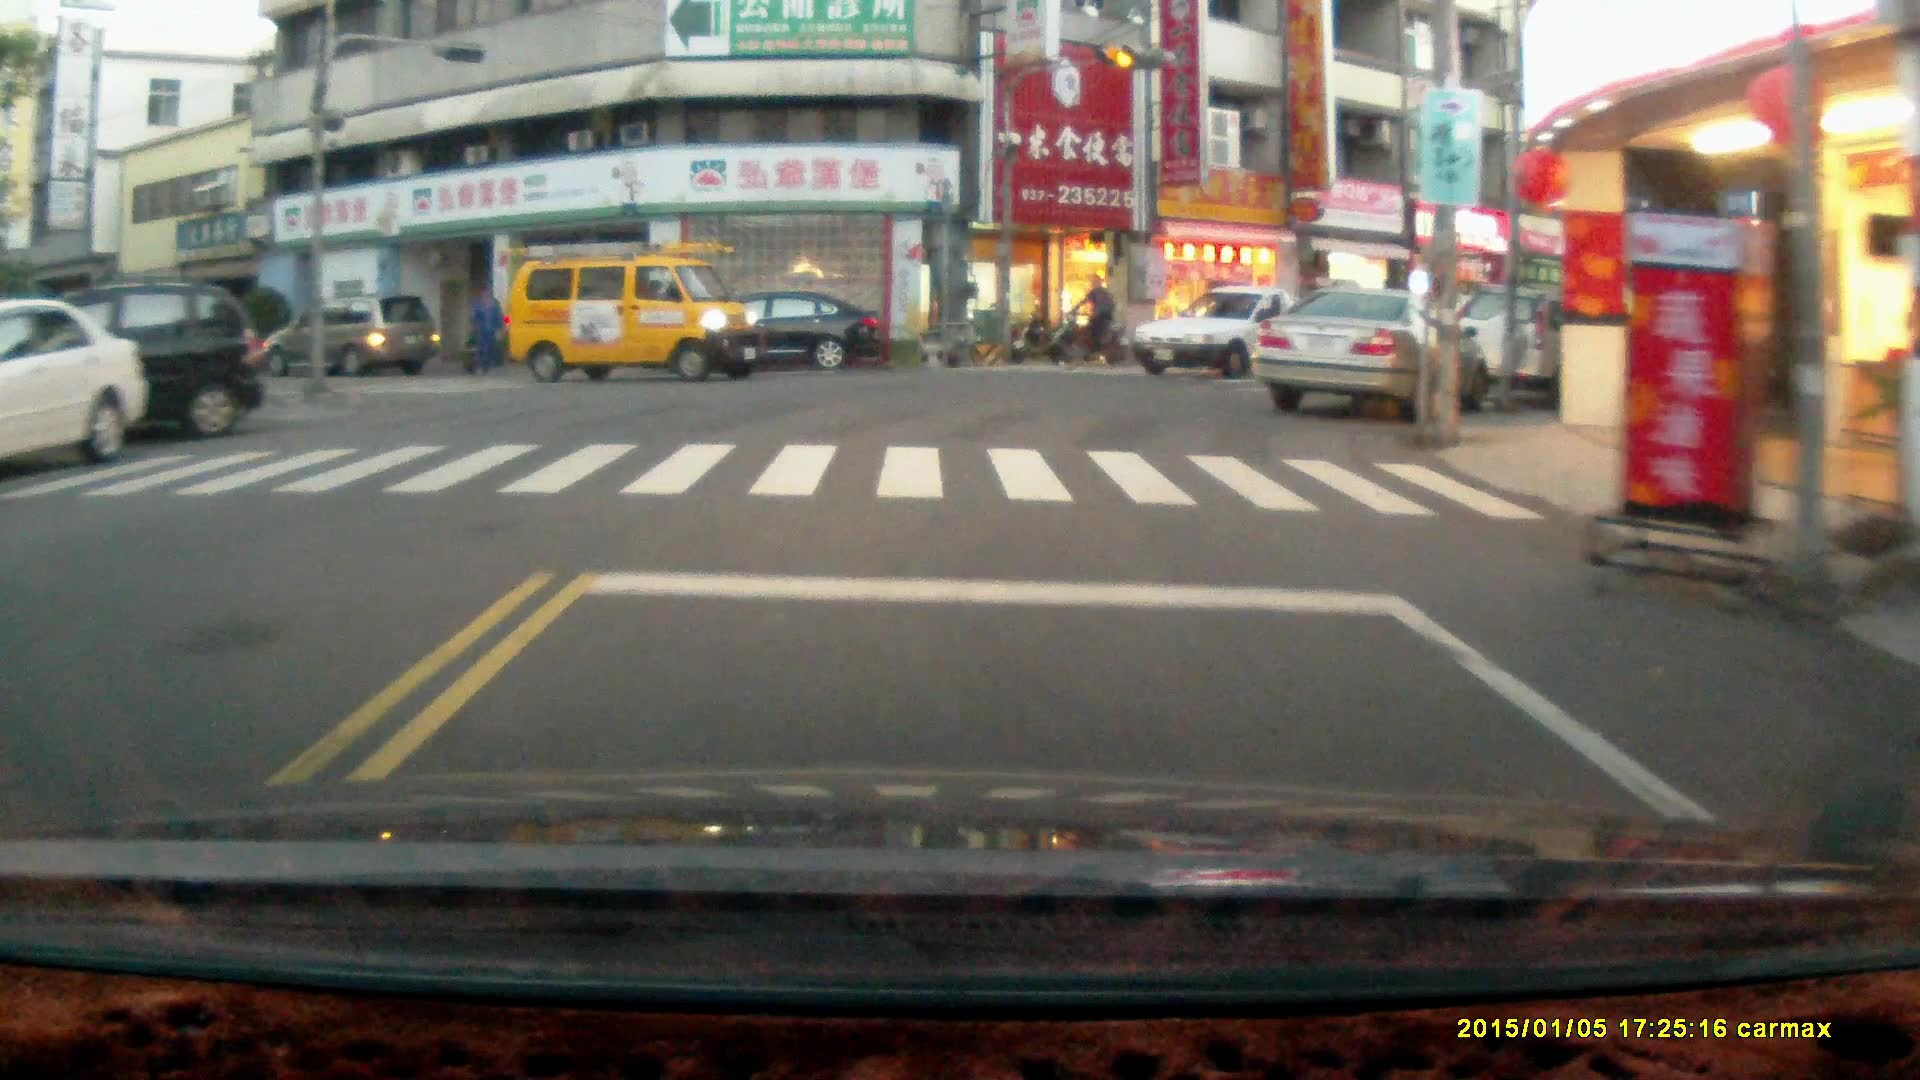pedestrian: (466, 285, 501, 372)
rider: (1050, 269, 1128, 370)
vehicle: (5, 276, 275, 450), (506, 240, 759, 385), (1250, 285, 1500, 420), (1447, 283, 1681, 409), (1, 297, 151, 474), (1127, 279, 1352, 380), (688, 287, 887, 372), (259, 296, 444, 381)
